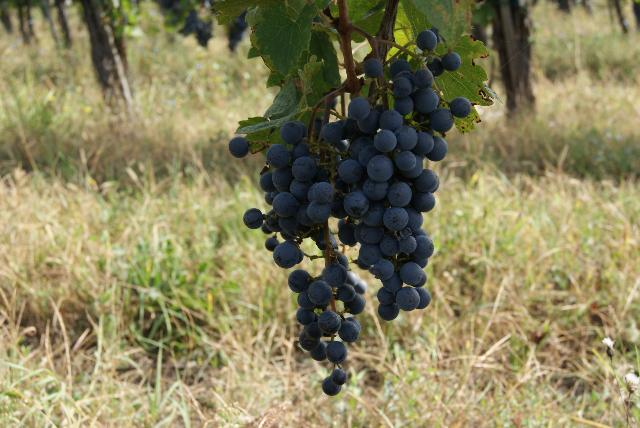grapes: (339, 52, 471, 320), (265, 120, 360, 396)
